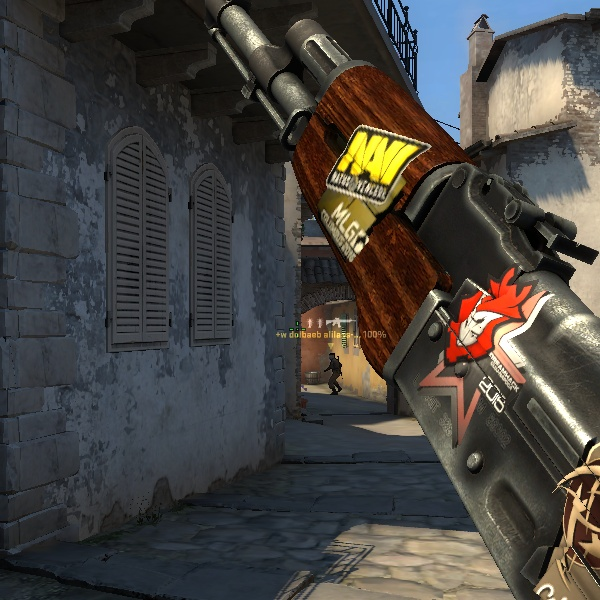t_body: (323, 352, 341, 396)
t_head: (328, 353, 335, 361)
